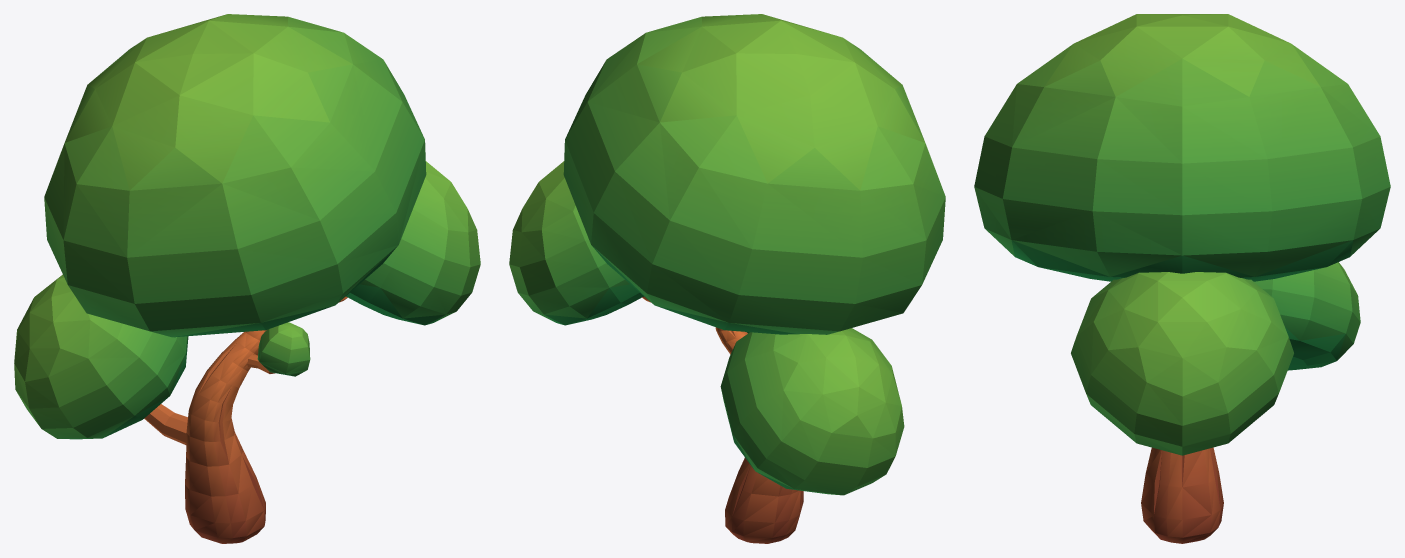
Rendered from kf_tree_1_c.fbx.
3 views of the same model, side by side, from view 1: azimuth 30°, elevation 25°; view 2: azimuth 150°, elevation 25°; view 3: azimuth 270°, elevation 25° (orthographic). The views are drawn at different scales.
Parts seen in each view (by area): view 1: kf_tree_1_c_LOD0; view 2: kf_tree_1_c_LOD0; view 3: kf_tree_1_c_LOD0.
Boxes of the visible parts, bbox=[...] form: kf_tree_1_c_LOD0: bbox=[14, 14, 480, 543]; kf_tree_1_c_LOD0: bbox=[509, 14, 945, 543]; kf_tree_1_c_LOD0: bbox=[974, 14, 1390, 543].
Size of what is drawn, in the model's own units: 7.69 by 8.99 by 6.62.
